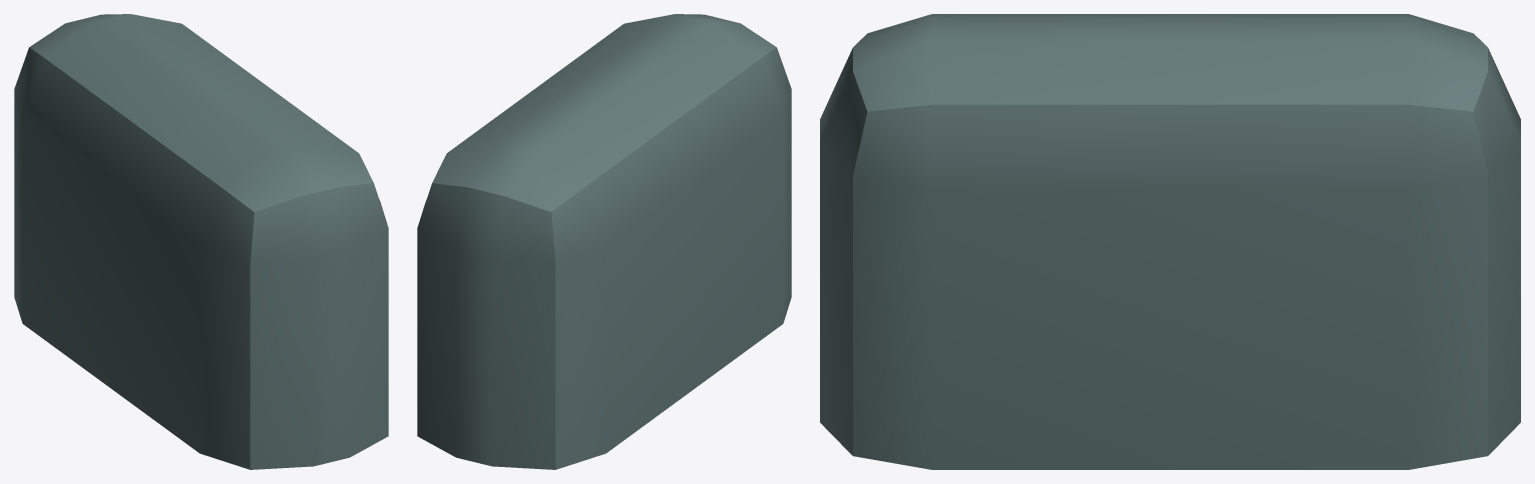
Rendered from hedge2.fbx.
3 renders of one model, left to right at view 1: azimuth 30°, elevation 25°; view 2: azimuth 150°, elevation 25°; view 3: azimuth 270°, elevation 25°, orthographic. The views are drawn at different scales.
Parts seen in each view (by area): view 1: hedge2; view 2: hedge2; view 3: hedge2.
Boxes of the visible parts, x1,y1,x2,y2 form: hedge2: [14, 14, 388, 469]; hedge2: [417, 14, 791, 469]; hedge2: [820, 14, 1520, 469].
Size of the model in its own units: 40 by 60 by 100.
